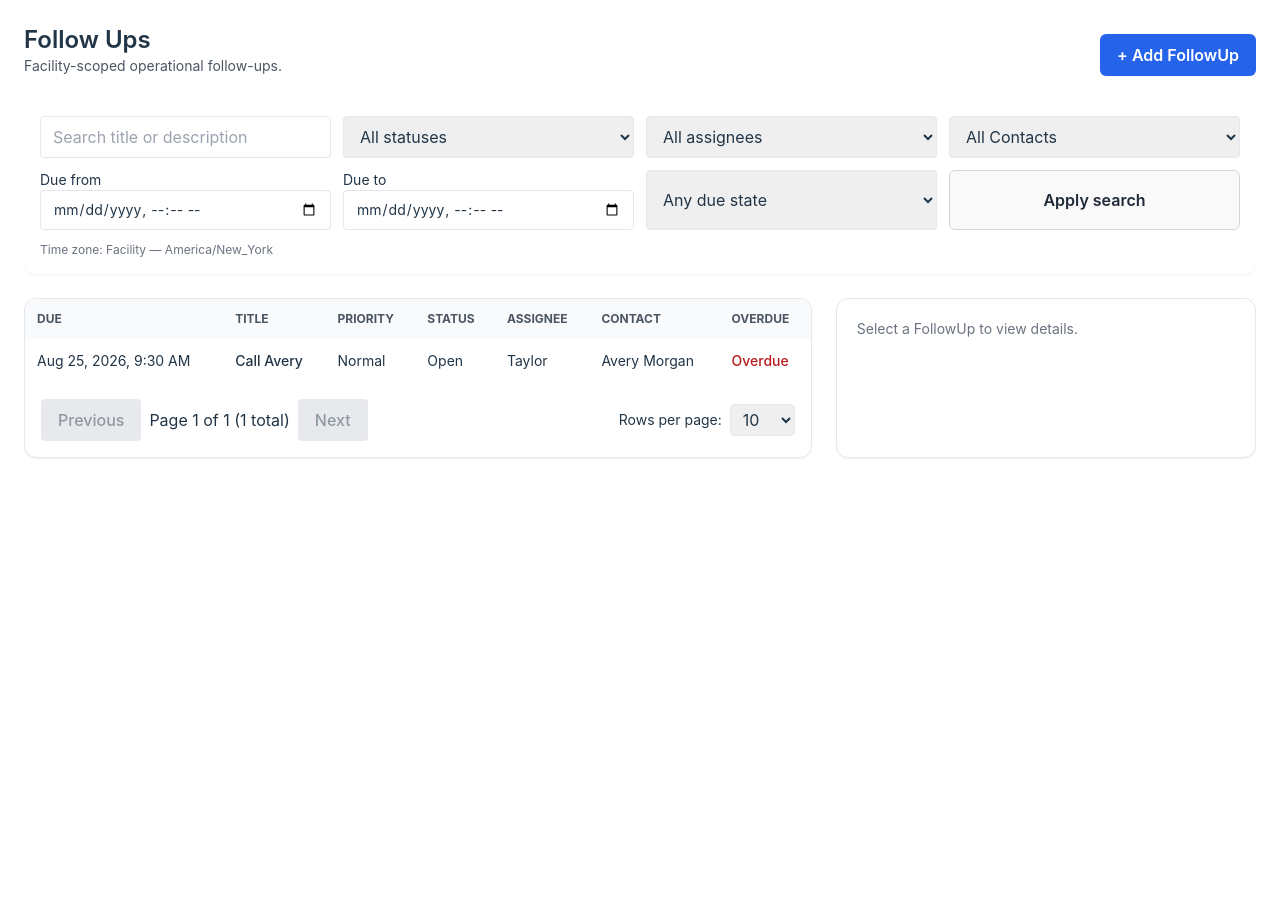
Test: FollowUpsPage › shows safe create form error for 400
Click the button "+ Add FollowUp" at (1178, 55), box [1100, 34, 1256, 76]
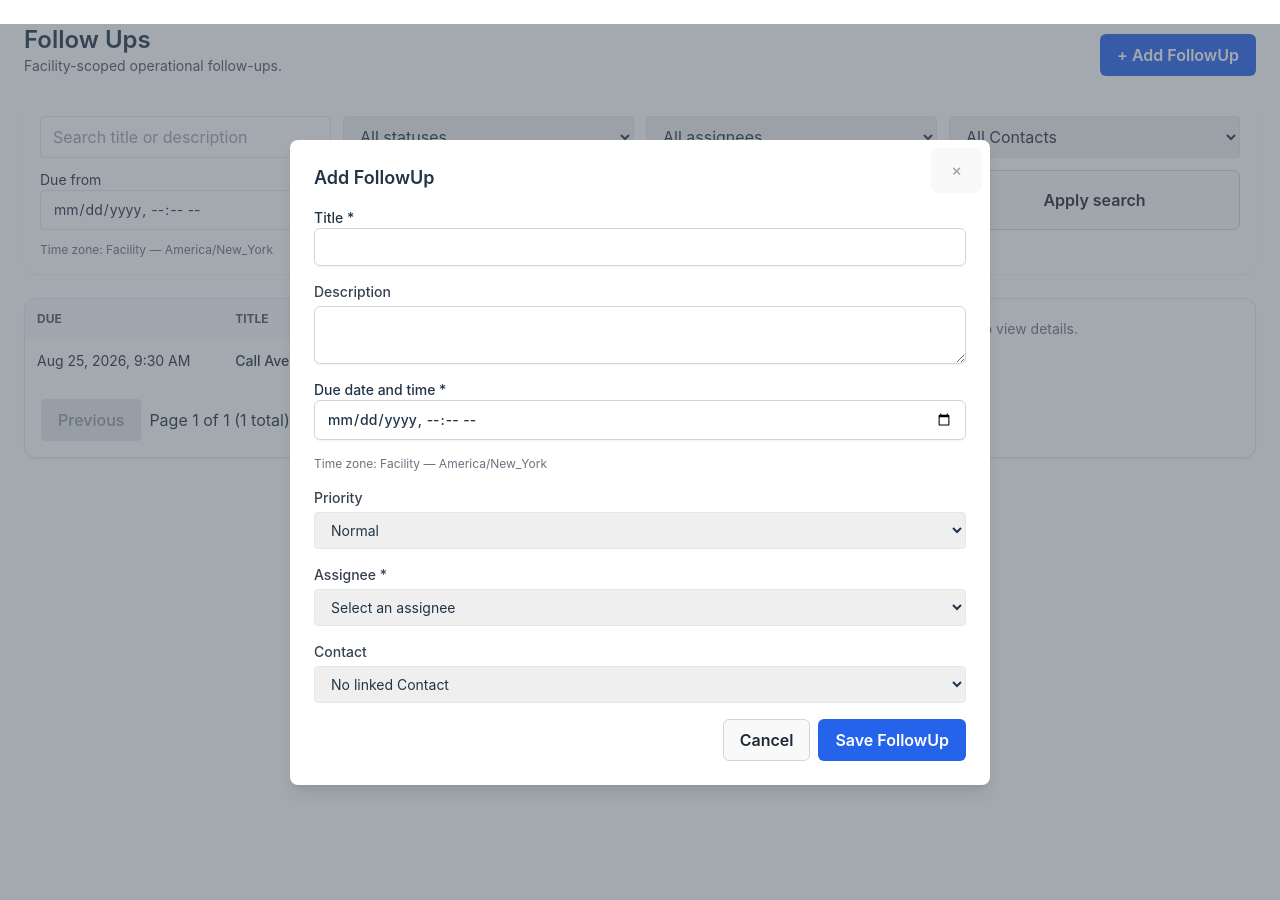
Type "New FollowUp" into the field labelled "Title *" at (640, 246), box [314, 228, 966, 266]
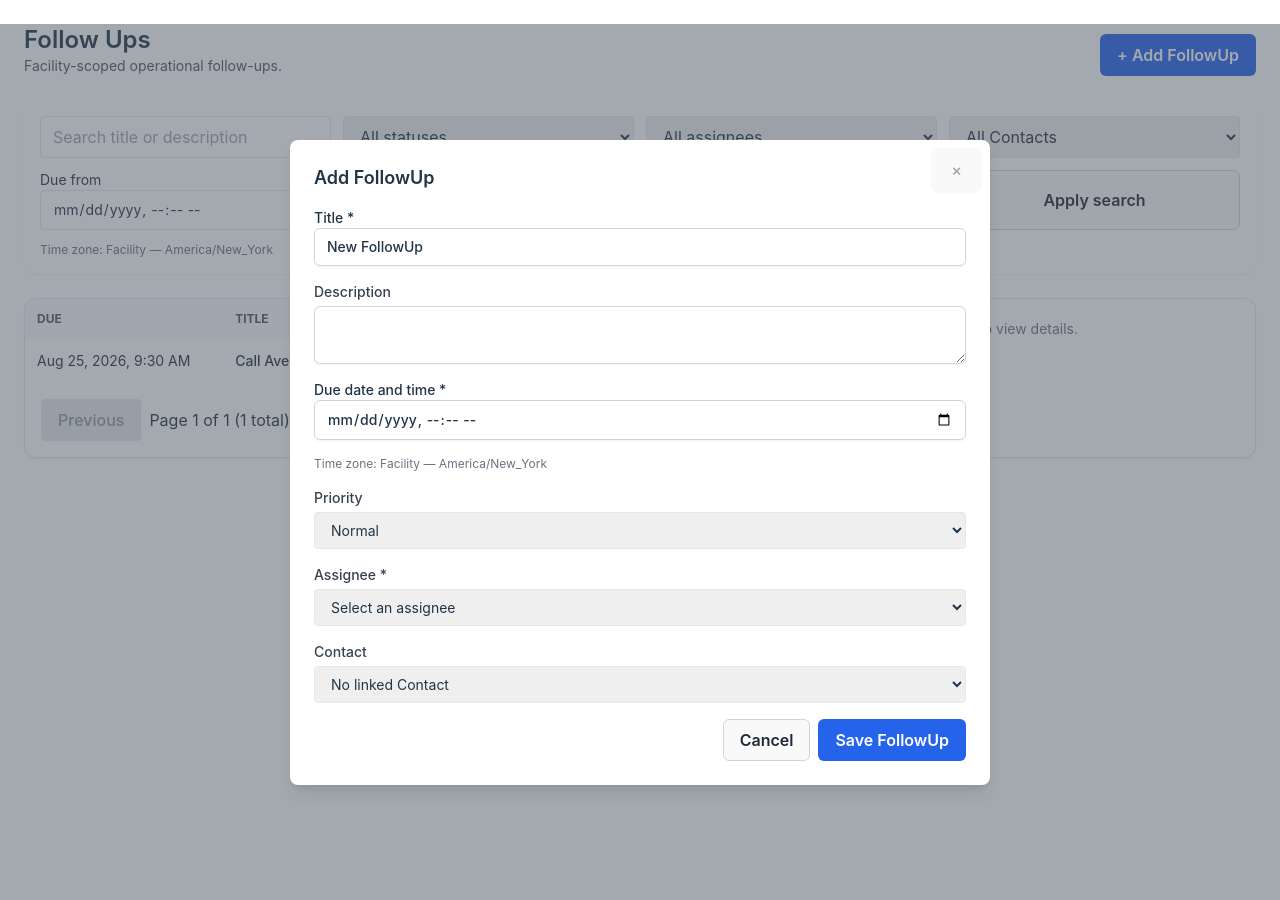
Type "2026-08-25T09:30" into the field labelled "Due date and time *" at (640, 420), box [314, 400, 966, 440]
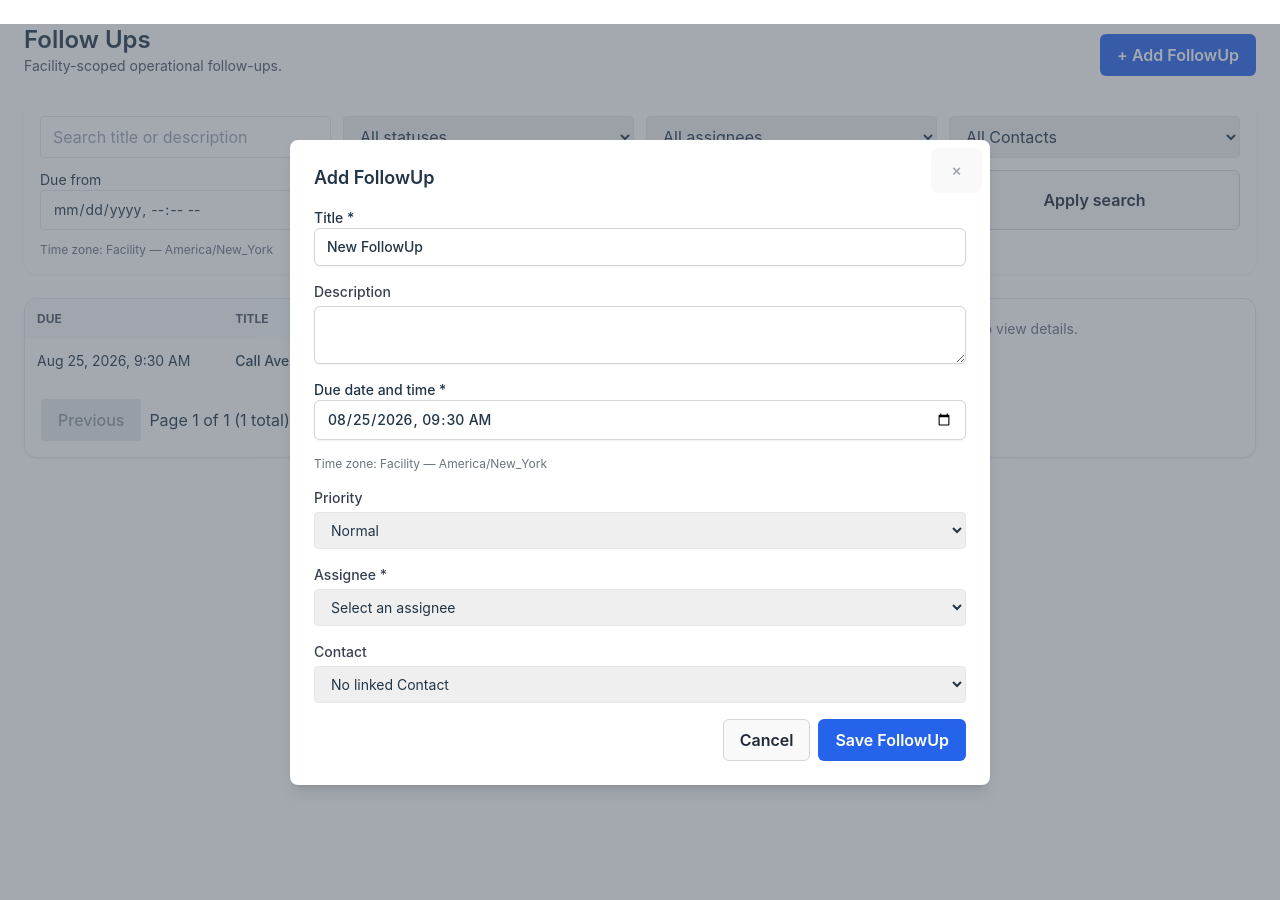
Select "Taylor (technician)" in the dropdown named "assignee" at (640, 607), box [314, 588, 966, 626]
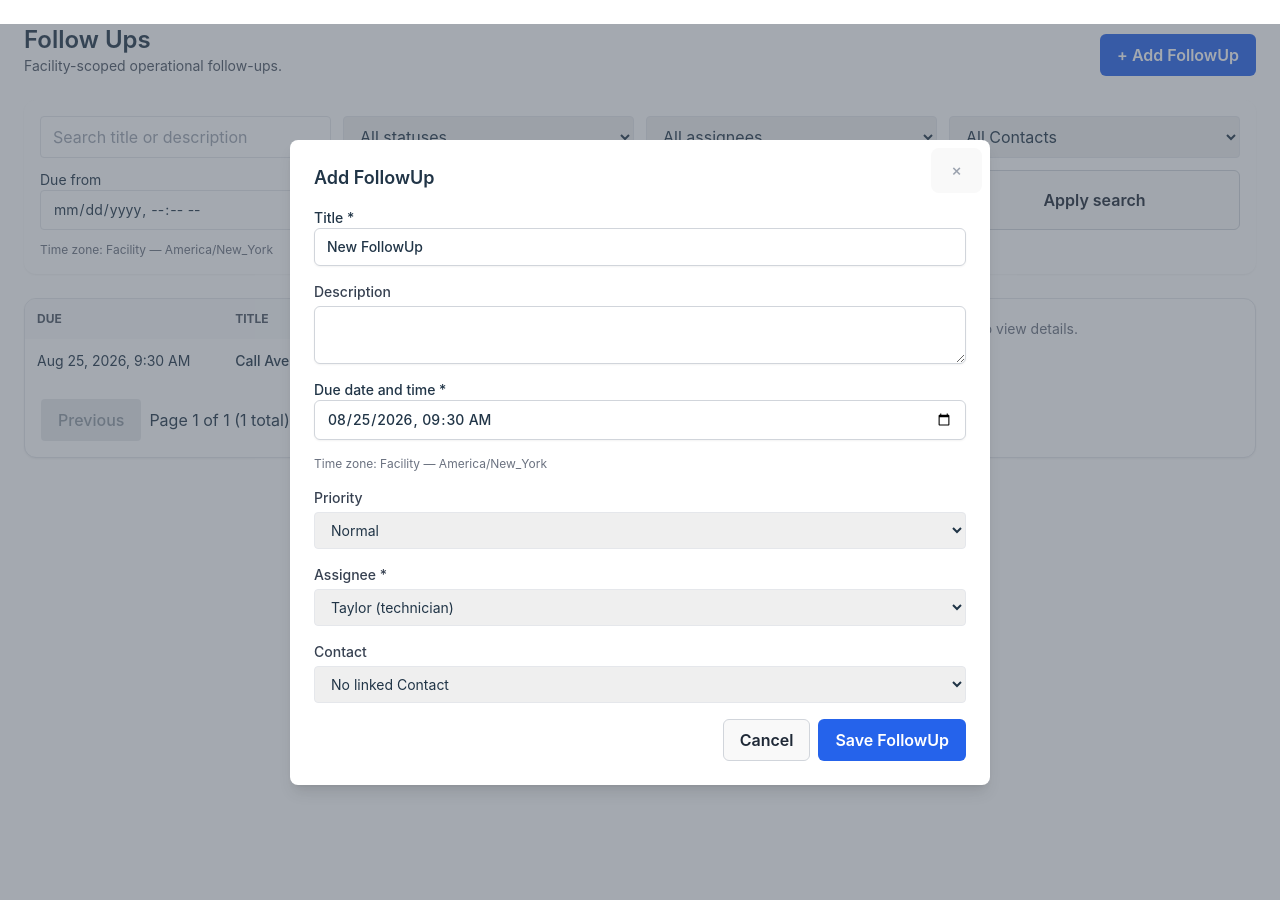
Click the button "Save FollowUp" at (892, 740), box [818, 718, 966, 760]
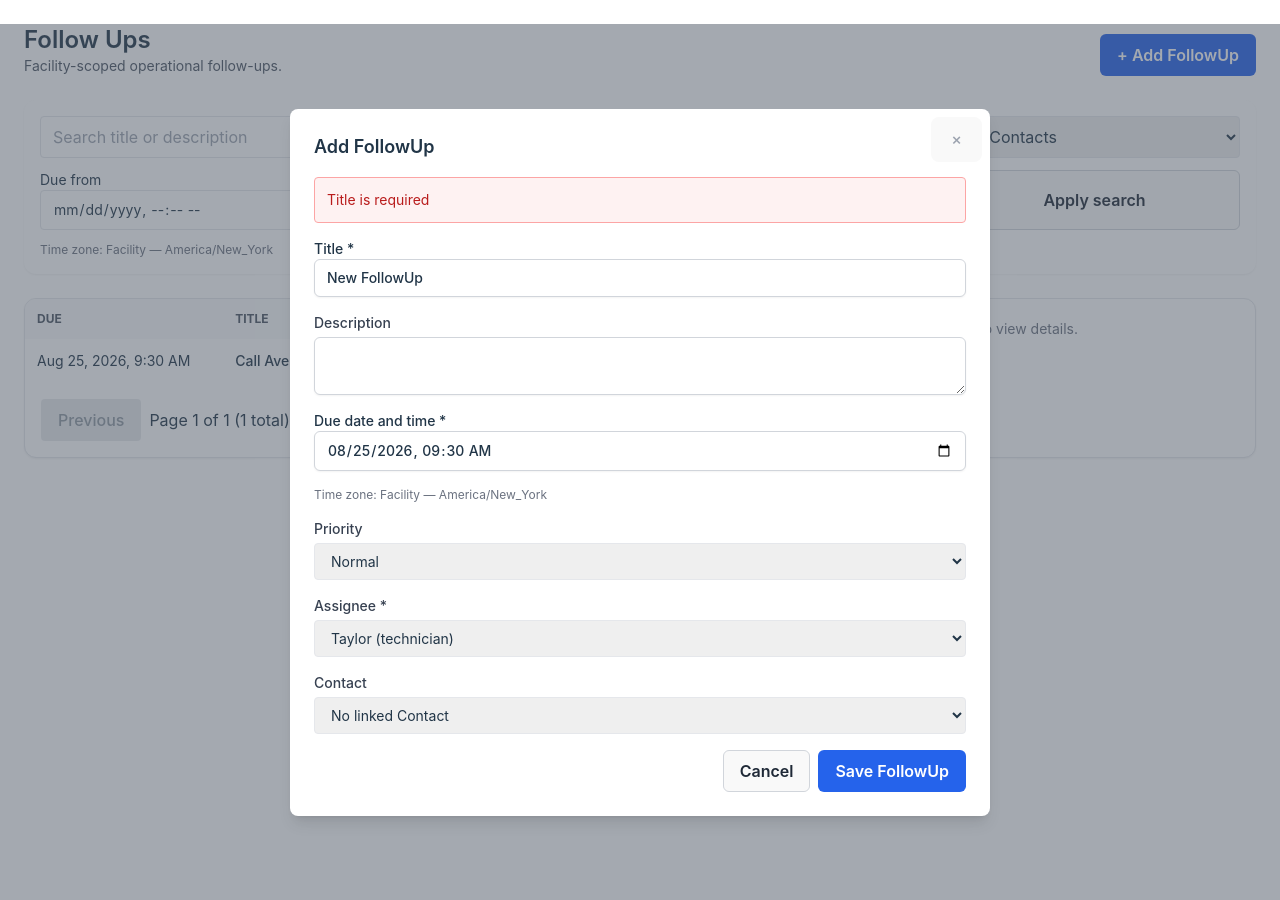
Now the heading "Add FollowUp" is shown, box [314, 136, 434, 156]
Now the message reads "Title is required", box [327, 190, 429, 208]
